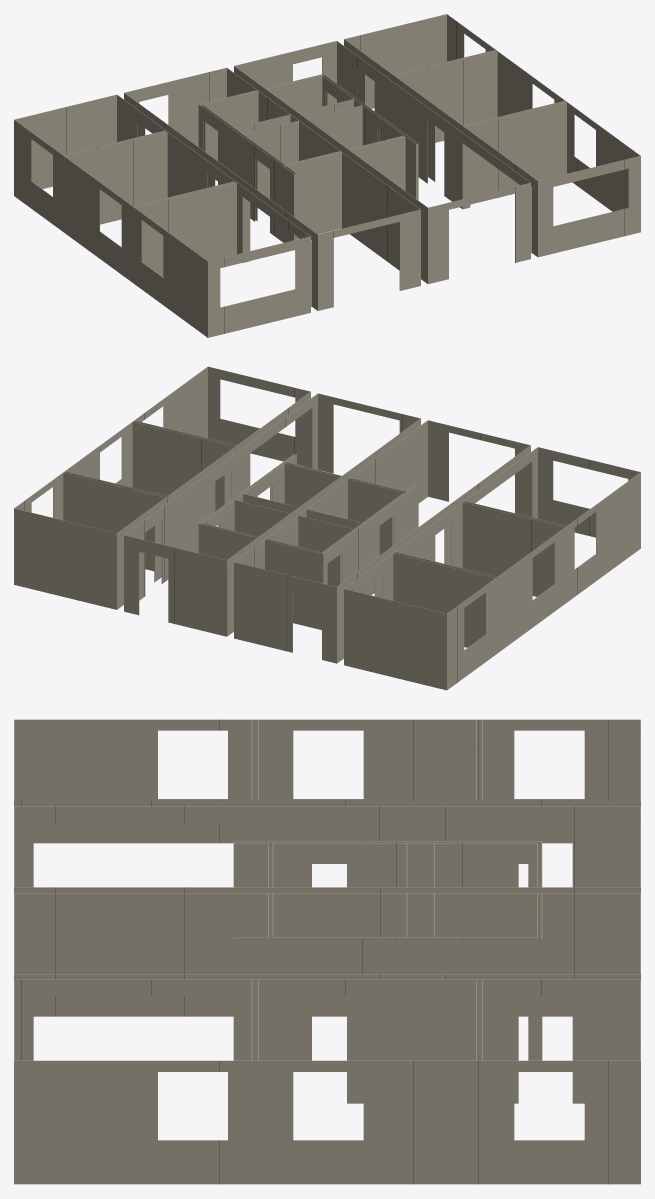
Rendered from Kips_1_kiht.glb.
3 views of the same model, one above another, from view 1: azimuth 30°, elevation 25°; view 2: azimuth 150°, elevation 25°; view 3: azimuth 270°, elevation 25° (orthographic). The views are drawn at different scales.
Parts seen in each view (by area): view 1: Kipsplaat_448 (×4), Kipsplaat_459 (×2), Kipsplaat_484 (×8), Kipsplaat_449 (×2), Kipsplaat_454 (×2), Kipsplaat_472 (×2), Kipsplaat_461 (×2), Kipsplaat_466 (×2), Kipsplaat_464 (×2), Kipsplaat_485, Kipsplaat_452 (×2), Kipsplaat_488 (×2) (+5 smaller); view 2: Kipsplaat_448 (×4), Kipsplaat_459 (×2), Kipsplaat_454 (×2), Kipsplaat_466 (×2), Kipsplaat_484 (×6), Kipsplaat_472 (×2), Kipsplaat_449 (×2), Kipsplaat_461 (×2), Kipsplaat_482 (×2), Kipsplaat_464 (×2), Kipsplaat_485, Kipsplaat_465 (×2) (+6 smaller); view 3: Kipsplaat_459 (×2), Kipsplaat_472 (×2), Kipsplaat_452 (×2), Kipsplaat_485 (×2), Kipsplaat_488 (×2), Kipsplaat_453 (×2), Kipsplaat_465 (×2), Kipsplaat_464 (×2), Kipsplaat_451 (×2), Kipsplaat_463 (×2).
Part boxes in pixels (x1,y1,x2,y2): Kipsplaat_448 (×4): (65,51,566,276); Kipsplaat_459 (×2): (14,14,640,337); Kipsplaat_484 (×8): (202,75,405,239); Kipsplaat_449 (×2): (207,156,640,337); Kipsplaat_454 (×2): (14,14,446,195); Kipsplaat_472 (×2): (227,66,427,283); Kipsplaat_461 (×2): (317,182,530,310); Kipsplaat_466 (×2): (124,41,336,146); Kipsplaat_464 (×2): (174,77,456,201); Kipsplaat_485: (198,104,293,242); Kipsplaat_452 (×2): (166,75,463,197); Kipsplaat_488 (×2): (202,76,415,221); Kipsplaat_448 (×4): (63,422,564,647); Kipsplaat_459 (×2): (14,366,640,689); Kipsplaat_454 (×2): (14,508,447,690); Kipsplaat_466 (×2): (124,535,337,663); Kipsplaat_484 (×6): (234,463,403,586); Kipsplaat_472 (×2): (227,418,427,636); Kipsplaat_449 (×2): (208,366,640,548); Kipsplaat_461 (×2): (318,393,530,515); Kipsplaat_482 (×2): (199,523,322,629); Kipsplaat_464 (×2): (174,448,456,565); Kipsplaat_485: (323,484,418,595); Kipsplaat_465 (×2): (124,499,386,662); Kipsplaat_459 (×2): (14,719,640,1184); Kipsplaat_472 (×2): (14,887,640,1016); Kipsplaat_452 (×2): (254,800,478,1103); Kipsplaat_485 (×2): (234,841,542,1060); Kipsplaat_488 (×2): (234,843,537,939); Kipsplaat_453 (×2): (479,800,640,1103); Kipsplaat_465 (×2): (479,806,640,979); Kipsplaat_464 (×2): (254,806,478,979); Kipsplaat_451 (×2): (14,800,254,1060); Kipsplaat_463 (×2): (14,806,254,979).
Size of the model in its own units: 14.96 by 2.52 by 11.61.
